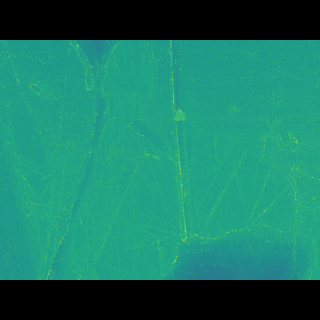Loch: (37, 122, 309, 250), (0, 69, 160, 187)
